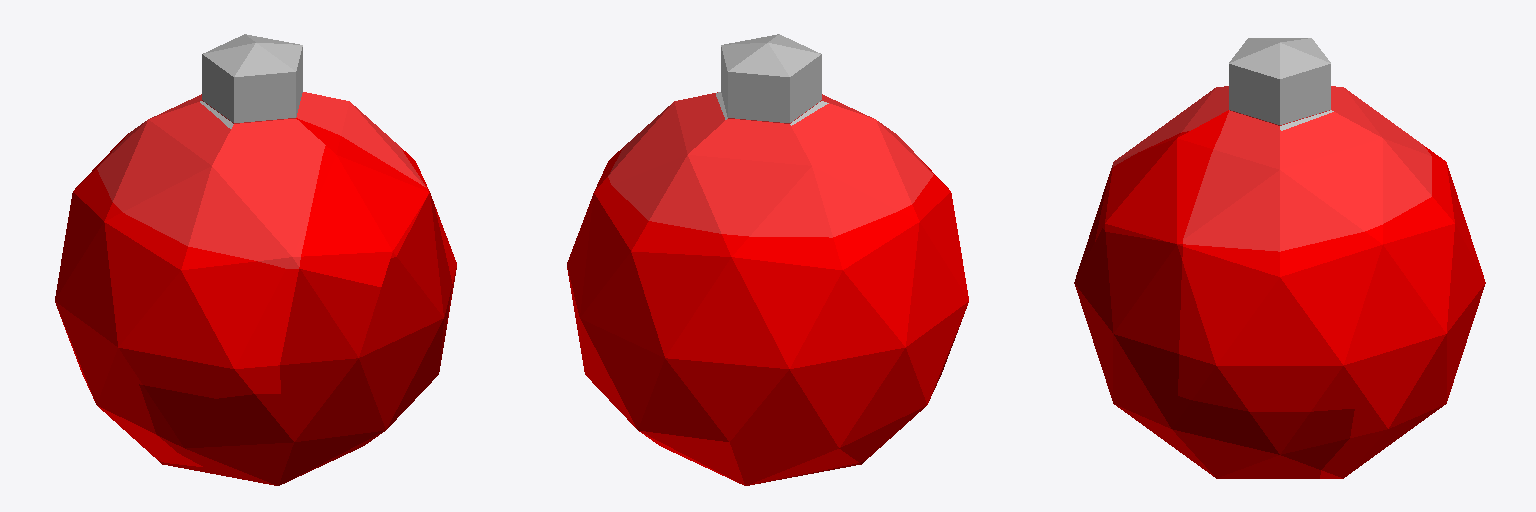
3 views of the same model, side by side, from view 1: azimuth 30°, elevation 25°; view 2: azimuth 150°, elevation 25°; view 3: azimuth 270°, elevation 25° (orthographic).
Parts seen in each view (by area): view 1: Icosphere; view 2: Icosphere; view 3: Icosphere.
Boxes of the visible parts, box(x1,y1,x2,y2) form: Icosphere: box(55, 34, 456, 485); Icosphere: box(567, 34, 968, 485); Icosphere: box(1074, 38, 1485, 478).
Size of the model in its own units: 0.1902 by 0.2288 by 0.2.
1 materials, 1 textured.